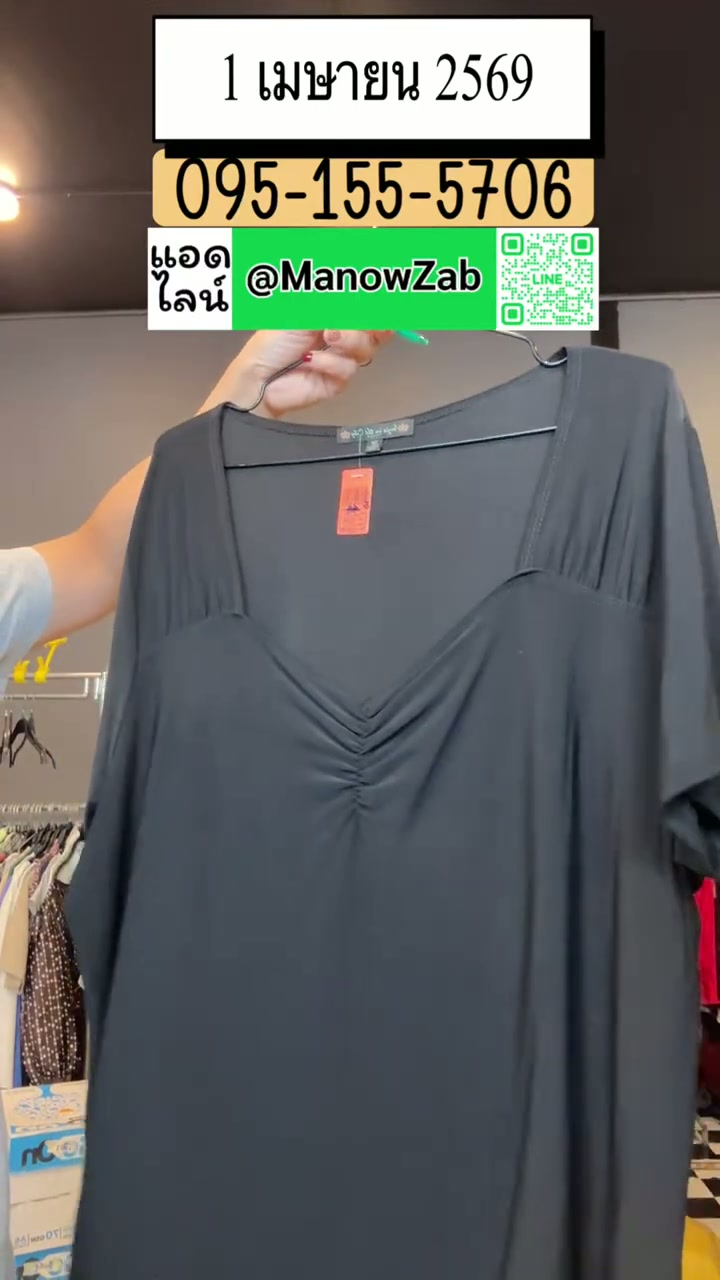display_shirt: (68, 351, 719, 1279)
